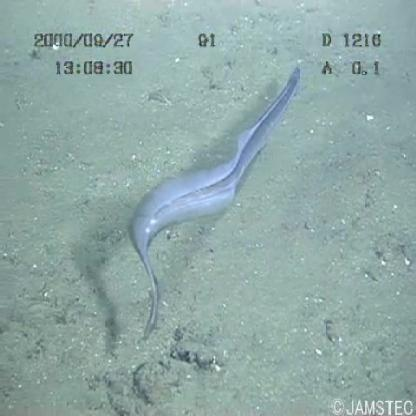Bio: (125, 60, 303, 340)
